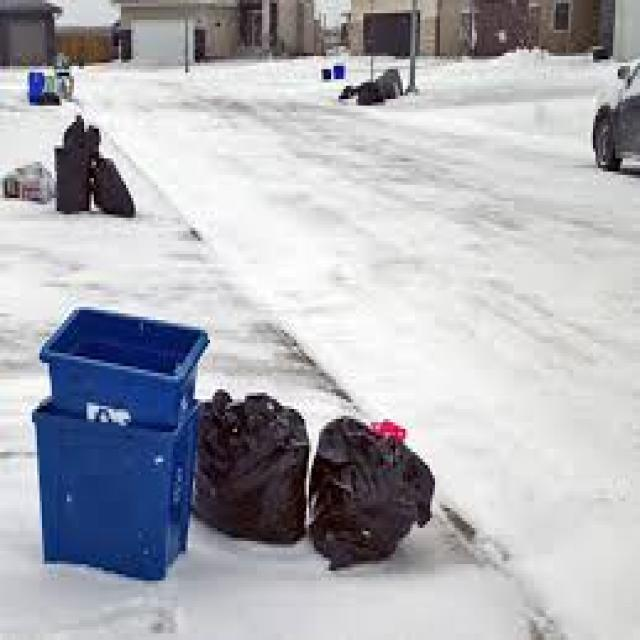garbage: (180, 370, 448, 574), (2, 106, 144, 221), (333, 52, 412, 116), (15, 52, 89, 112)
